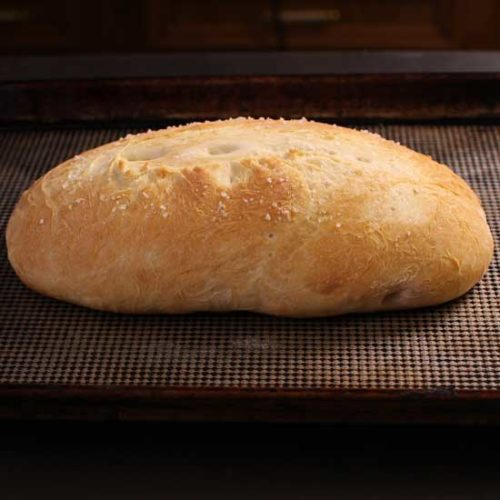Bread: (7, 107, 493, 328)
